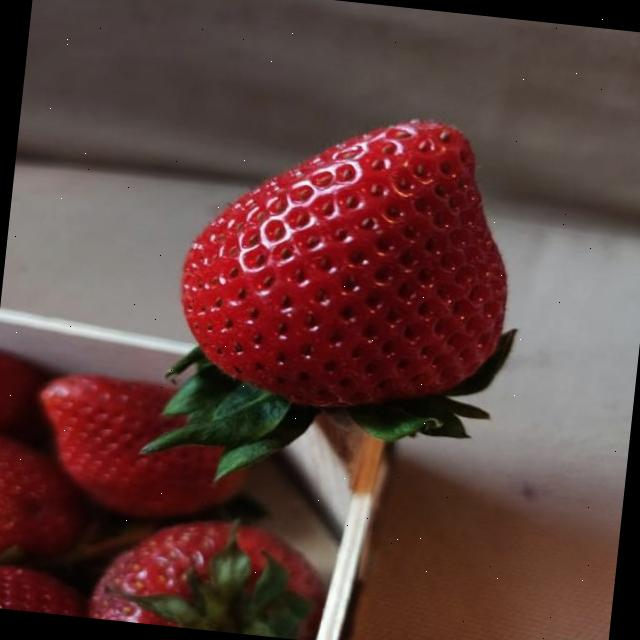strawberry: (166, 96, 525, 426), (32, 368, 253, 528)
